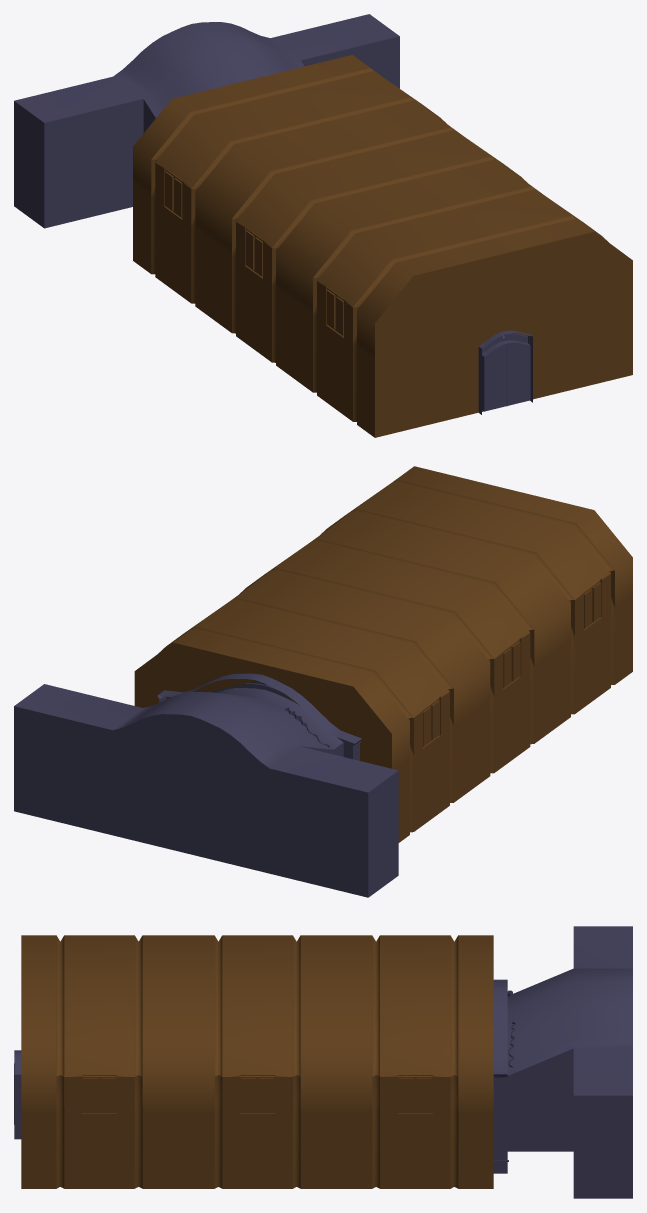
Rendered from AsylumRecRoom.obj.
3 views of the same model, one above another, from view 1: azimuth 30°, elevation 25°; view 2: azimuth 150°, elevation 25°; view 3: azimuth 270°, elevation 25° (orthographic). The views are drawn at different scales.
Parts seen in each view (by area): view 1: Room, Stage, Door; view 2: Room, Stage; view 3: Room, Stage, Door.
Part boxes in pixels (bbox=[...]): Room: bbox=[133, 55, 632, 437]; Stage: bbox=[14, 14, 399, 228]; Door: bbox=[478, 330, 532, 414]; Room: bbox=[134, 466, 632, 842]; Stage: bbox=[14, 673, 398, 897]; Room: bbox=[21, 935, 493, 1188]; Stage: bbox=[493, 926, 632, 1198]; Door: bbox=[14, 1050, 21, 1139].
Bounding box in the file's own units: 14.13 × 5.82 × 21.82.
